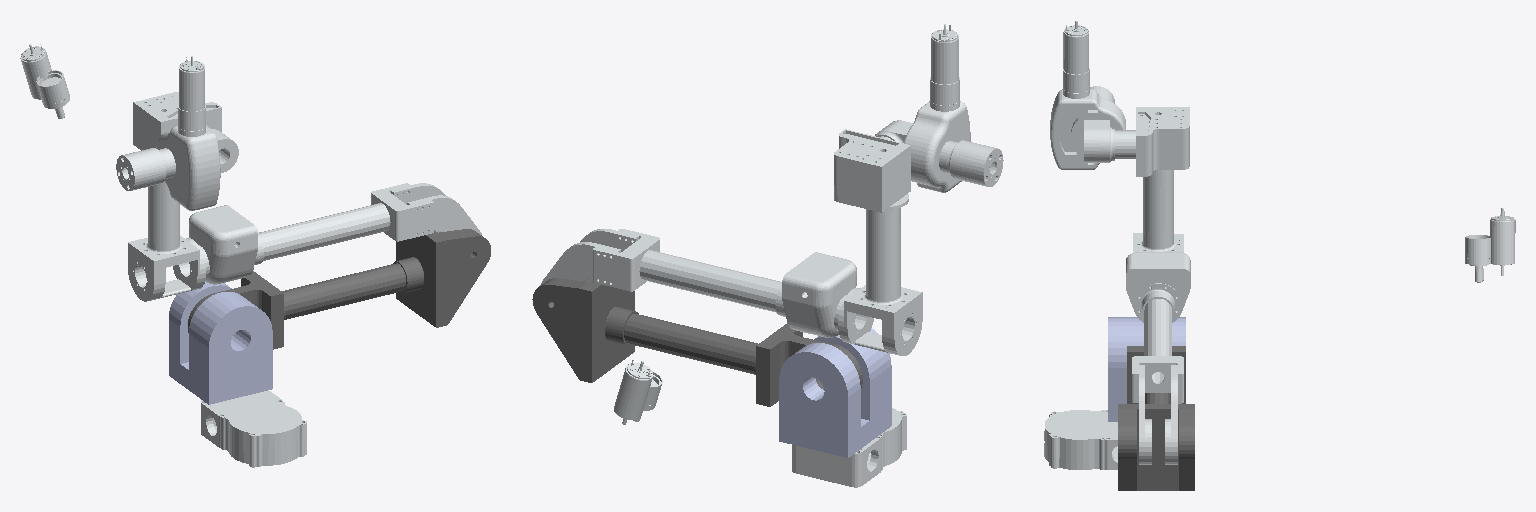
The robot description file, URDF, robot "arm_description":
<robot
  name="arm_description">
   <link name="world"/>

 <joint name="grouding" type="fixed">
   <parent link="world"/>
   <child link="base_link"/>
   <origin
     xyz="0 0 0.1"
     rpy="3.14 0 0" />
 </joint>
 <link
    name="base_link">
    <inertial>
      <origin
        xyz="0.0081055 -0.00017223 -0.0060369"
        rpy="0 0 0" />
      <mass
        value="0.8797" />
      <inertia
        ixx="0.00012142"
        ixy="1.9318E-06"
        ixz="-1.5581E-21"
        iyy="3.0734E-08"
        iyz="9.793E-20"
        izz="0.00012145" />
    </inertial>
    <visual>
      <origin
        xyz="0 0 0"
        rpy="0 0 0" />
      <geometry>
        <mesh
          filename="package://arm_description/meshes/base_link.STL" />
      </geometry>
      <material
        name="">
        <color
          rgba="0.89804 0.91765 0.92941 1" />
      </material>
    </visual>
    <collision>
      <origin
        xyz="0 0 0"
        rpy="0 0 0" />
      <geometry>
        <mesh
          filename="package://arm_description/meshes/base_link.STL" />
      </geometry>
    </collision>
  </link>
  <link
    name="1_eksen_L">
    <inertial>
      <origin
        xyz="0 0.064054 -0.0017789"
        rpy="0 0 0" />
      <mass
        value="1.4155" />
      <inertia
        ixx="0"
        ixy="0"
        ixz="0"
        iyy="0"
        iyz="0"
        izz="0" />
    </inertial>
    <visual>
      <origin
        xyz="0 0 0"
        rpy="0 0 0" />
      <geometry>
        <mesh
          filename="package://arm_description/meshes/1_eksen_L.STL" />
      </geometry>
      <material
        name="">
        <color
          rgba="0.79216 0.81961 0.93333 1" />
      </material>
    </visual>
    <collision>
      <origin
        xyz="0 0 0"
        rpy="0 0 0" />
      <geometry>
        <mesh
          filename="package://arm_description/meshes/1_eksen_L.STL" />
      </geometry>
    </collision>
  </link>
  <joint
    name="1_eksen_j"
    type="revolute">
    <origin
      xyz="0.037739 0.0060369 -0.022125"
      rpy="-1.5708 0 0" />
    <parent
      link="base_link" />
    <child
      link="1_eksen_L" />
    <axis
      xyz="0 -1 0" />
    <limit
      lower="-3.14"
      upper="3.14"
      effort="0"
      velocity="0" />
  </joint>
  <link
    name="2_eksen_L">
    <inertial>
      <origin
        xyz="-0.0065699 0.24989 -0.016947"
        rpy="0 0 0" />
      <mass
        value="1.2949" />
      <inertia
        ixx="0.029466"
        ixy="0.0010685"
        ixz="-4.8277E-06"
        iyy="5.4374E-05"
        iyz="0.00022096"
        izz="0.029513" />
    </inertial>
    <visual>
      <origin
        xyz="0 0 0"
        rpy="0 0 0" />
      <geometry>
        <mesh
          filename="package://arm_description/meshes/2_eksen_L.STL" />
      </geometry>
      <material
        name="">
        <color
          rgba="0.49804 0.49804 0.49804 1" />
      </material>
    </visual>
    <collision>
      <origin
        xyz="0 0 0"
        rpy="0 0 0" />
      <geometry>
        <mesh
          filename="package://arm_description/meshes/2_eksen_L.STL" />
      </geometry>
    </collision>
  </link>
  <joint
    name="2_eksen_j"
    type="revolute">
    <origin
      xyz="0 0.093 0"
      rpy="-8.6736E-17 8.6736E-17 -1.5708" />
    <parent
      link="1_eksen_L" />
    <child
      link="2_eksen_L" />
    <axis
      xyz="0 0 -1" />
    <limit
      lower="-1.57"
      upper="1.57"
      effort="0"
      velocity="0" />
  </joint>
  <link
    name="3_eksen_L">
    <inertial>
      <origin
        xyz="0.26713 0.067464 0.026885"
        rpy="0 0 0" />
      <mass
        value="2.6432" />
      <inertia
        ixx="0.0033569"
        ixy="-0.01011"
        ixz="-0.0018729"
        iyy="0.076559"
        iyz="-0.00052912"
        izz="0.076401" />
    </inertial>
    <visual>
      <origin
        xyz="0 0 0"
        rpy="0 0 0" />
      <geometry>
        <mesh
          filename="package://arm_description/meshes/3_eksen_L.STL" />
      </geometry>
      <material
        name="">
        <color
          rgba="0.89804 0.91765 0.92941 1" />
      </material>
    </visual>
    <collision>
      <origin
        xyz="0 0 0"
        rpy="0 0 0" />
      <geometry>
        <mesh
          filename="package://arm_description/meshes/3_eksen_L.STL" />
      </geometry>
    </collision>
  </link>
  <joint
    name="3_eksen_j"
    type="revolute">
    <origin
      xyz="-0.039 0.41 0"
      rpy="3.1416 8.6736E-17 -1.5708" />
    <parent
      link="2_eksen_L" />
    <child
      link="3_eksen_L" />
    <axis
      xyz="0 0 1" />
    <limit
      lower="-1.57"
      upper="1.57"
      effort="0"
      velocity="0" />
  </joint>
  <link
    name="4_eksen_L">
    <inertial>
      <origin
        xyz="0.0986967829210475 0.00238054464310046 0.0694933443443458"
        rpy="0 0 0" />
      <mass
        value="1.36543112069823" />
      <inertia
        ixx="7.01463941383603E-05"
        ixy="-0.000418870532854604"
        ixz="0.000395245279166743"
        iyy="0.0134159253297998"
        iyz="2.32375364561403E-05"
        izz="0.0133775702426983" />
    </inertial>
    <visual>
      <origin
        xyz="0 0 0"
        rpy="0 0 0" />
      <geometry>
        <mesh
          filename="package://arm_description/meshes/4_eksen_L.STL" />
      </geometry>
      <material
        name="">
        <color
          rgba="0.898039215686275 0.917647058823529 0.929411764705882 1" />
      </material>
    </visual>
    <collision>
      <origin
        xyz="0 0 0"
        rpy="0 0 0" />
      <geometry>
        <mesh
          filename="package://arm_description/meshes/4_eksen_L.STL" />
      </geometry>
    </collision>
  </link>
  <joint
    name="4_eksen_j"
    type="revolute">
    <origin
      xyz="0.4165 0.065 0.021552"
      rpy="1.5708 0 1.5708" />
    <parent
      link="3_eksen_L" />
    <child
      link="4_eksen_L" />
    <axis
      xyz="0 0 -1" />
    <limit
      lower="-3.14"
      upper="3.14"
      effort="0"
      velocity="0" />
  </joint>
  <link
    name="5_eksen_L">
    <inertial>
      <origin
        xyz="-0.0071526308972033 -0.0447443865886979 0.0980581919064059"
        rpy="0 0 0" />
      <mass
        value="2.05411358806035" />
      <inertia
        ixx="0.00175076084420297"
        ixy="-0.000226248997253378"
        ixz="0.000334857890439837"
        iyy="0.0024081674432031"
        iyz="0.000845591620627312"
        izz="0.00278233047460811" />
    </inertial>
    <visual>
      <origin
        xyz="0 0 0"
        rpy="0 0 0" />
      <geometry>
        <mesh
          filename="package://arm_description/meshes/5_eksen_L.STL" />
      </geometry>
      <material
        name="">
        <color
          rgba="0.898039215686275 0.917647058823529 0.929411764705882 1" />
      </material>
    </visual>
    <collision>
      <origin
        xyz="0 0 0"
        rpy="0 0 0" />
      <geometry>
        <mesh
          filename="package://arm_description/meshes/5_eksen_L.STL" />
      </geometry>
    </collision>
  </link>
  <joint
    name="5_eksen_j"
    type="revolute">
    <origin
      xyz="0.226 -0.007 0.0455"
      rpy="-1.5708 0 3.1416" />
    <parent
      link="4_eksen_L" />
    <child
      link="5_eksen_L" />
    <axis
      xyz="0 0 -1" />
    <limit
      lower="-3.14"
      upper="3.14"
      effort="0"
      velocity="0" />
  </joint>
  <link
    name="6_eksen_L">
    <inertial>
      <origin
        xyz="-3.26405569239796E-14 8.32667268468867E-17 0.0481583763255272"
        rpy="0 0 0" />
      <mass
        value="0.299295530441066" />
      <inertia
        ixx="0"
        ixy="0"
        ixz="0"
        iyy="0"
        iyz="0"
        izz="0" />
    </inertial>
    <visual>
      <origin
        xyz="0 0 0"
        rpy="0 0 0" />
      <geometry>
        <mesh
          filename="package://arm_description/meshes/6_eksen_L.STL" />
      </geometry>
      <material
        name="">
        <color
          rgba="0.898039215686275 0.917647058823529 0.929411764705882 1" />
      </material>
    </visual>
    <collision>
      <origin
        xyz="0 0 0"
        rpy="0 0 0" />
      <geometry>
        <mesh
          filename="package://arm_description/meshes/6_eksen_L.STL" />
      </geometry>
    </collision>
  </link>
  <joint
    name="6_eksen_j"
    type="revolute">
    <origin
      xyz="0 -0.072 0.088"
      rpy="1.5708 0.36629 4.0556E-28" />
    <parent
      link="5_eksen_L" />
    <child
      link="6_eksen_L" />
    <axis
      xyz="0 0 -1" />
    <limit
      lower="-3.14"
      upper="3.14"
      effort="0"
      velocity="0" />
  </joint>
  <gazebo>
    <plugin name="gazebo_ros_control" filename="libgazebo_ros_control.so">
    </plugin>
  </gazebo>
</robot>

--- Render facts (derived) ---
The picture shows the robot from 3 angles, left to right: view 1: azimuth 30°, elevation 25°; view 2: azimuth 150°, elevation 25°; view 3: azimuth 270°, elevation 25°; orthographic projection.
Robot: arm_description — 8 links, 7 joints (6 revolute, 1 fixed); root link world; default pose: all joints at 0.
Visible links, largest first — view 1: 3_eksen_L, 2_eksen_L, 1_eksen_L, 4_eksen_L, 5_eksen_L, base_link, 6_eksen_L; view 2: 3_eksen_L, 2_eksen_L, 4_eksen_L, 1_eksen_L, 5_eksen_L, base_link, 6_eksen_L; view 3: 3_eksen_L, 5_eksen_L, 4_eksen_L, 2_eksen_L, base_link, 1_eksen_L.
Boxes of the visible links, x1=… form: 3_eksen_L: x1=20, y1=44, x2=481, y2=284; 2_eksen_L: x1=188, y1=229, x2=490, y2=349; 1_eksen_L: x1=169, y1=282, x2=272, y2=404; 4_eksen_L: x1=128, y1=92, x2=221, y2=301; 5_eksen_L: x1=156, y1=56, x2=238, y2=210; base_link: x1=201, y1=390, x2=306, y2=467; 6_eksen_L: x1=116, y1=148, x2=175, y2=190; 3_eksen_L: x1=540, y1=229, x2=856, y2=424; 2_eksen_L: x1=532, y1=278, x2=862, y2=406; 4_eksen_L: x1=834, y1=129, x2=922, y2=355; 1_eksen_L: x1=779, y1=328, x2=891, y2=457; 5_eksen_L: x1=875, y1=24, x2=970, y2=192; base_link: x1=792, y1=408, x2=906, y2=487; 6_eksen_L: x1=939, y1=140, x2=1003, y2=186; 3_eksen_L: x1=1126, y1=208, x2=1515, y2=464; 5_eksen_L: x1=1050, y1=21, x2=1135, y2=169; 4_eksen_L: x1=1133, y1=107, x2=1189, y2=252; 2_eksen_L: x1=1118, y1=346, x2=1194, y2=490; base_link: x1=1044, y1=410, x2=1117, y2=469; 1_eksen_L: x1=1108, y1=317, x2=1185, y2=421.
Size in the robot's own frame: 0.653 by 0.7277 by 0.6861 metres.
Meshes: 7 distinct files referenced, 7 mesh visuals loaded (7 binary STL).